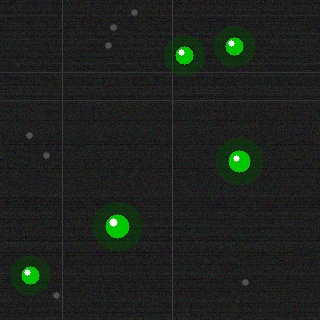green_normal: (103, 212, 131, 240), (226, 148, 252, 174), (19, 264, 41, 286), (223, 35, 245, 57), (173, 44, 195, 66)
